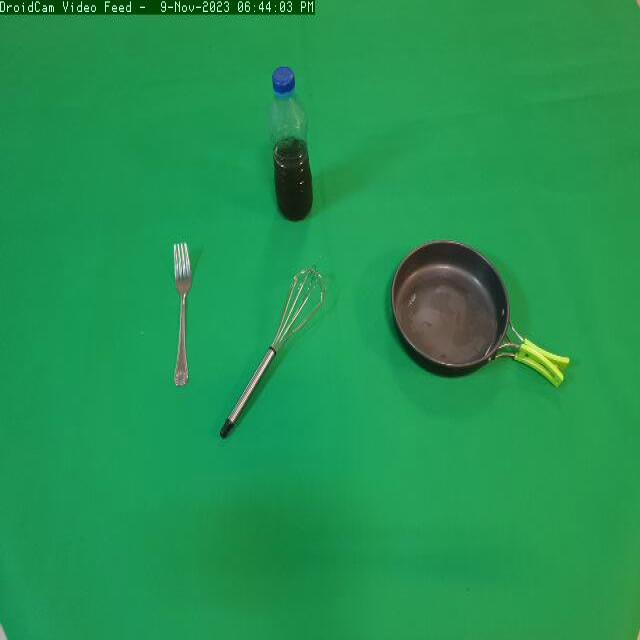fork: (159, 225, 211, 395)
fullbottle: (264, 62, 320, 234)
pan: (379, 237, 574, 408)
whisk: (214, 256, 334, 442)
